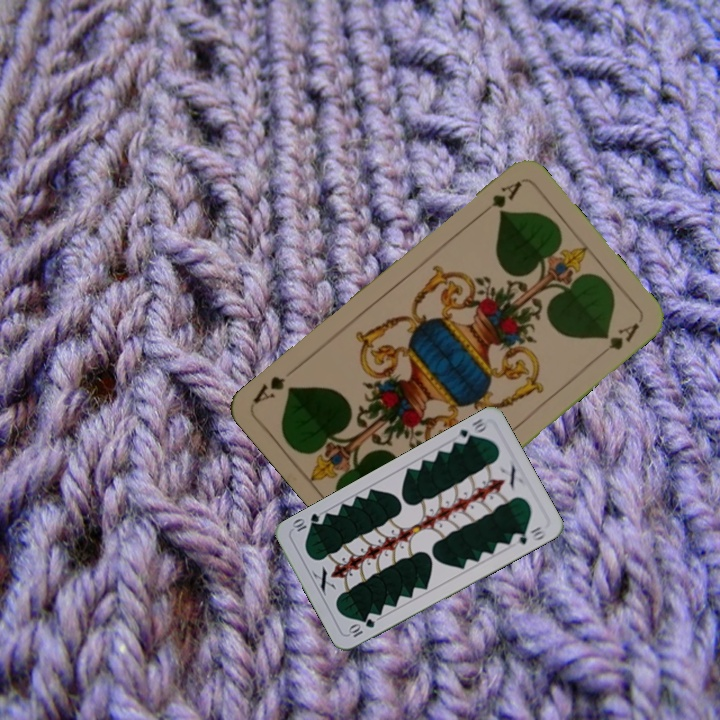G10: (451, 414, 491, 447), (344, 615, 377, 640)
GA: (474, 177, 524, 220)
